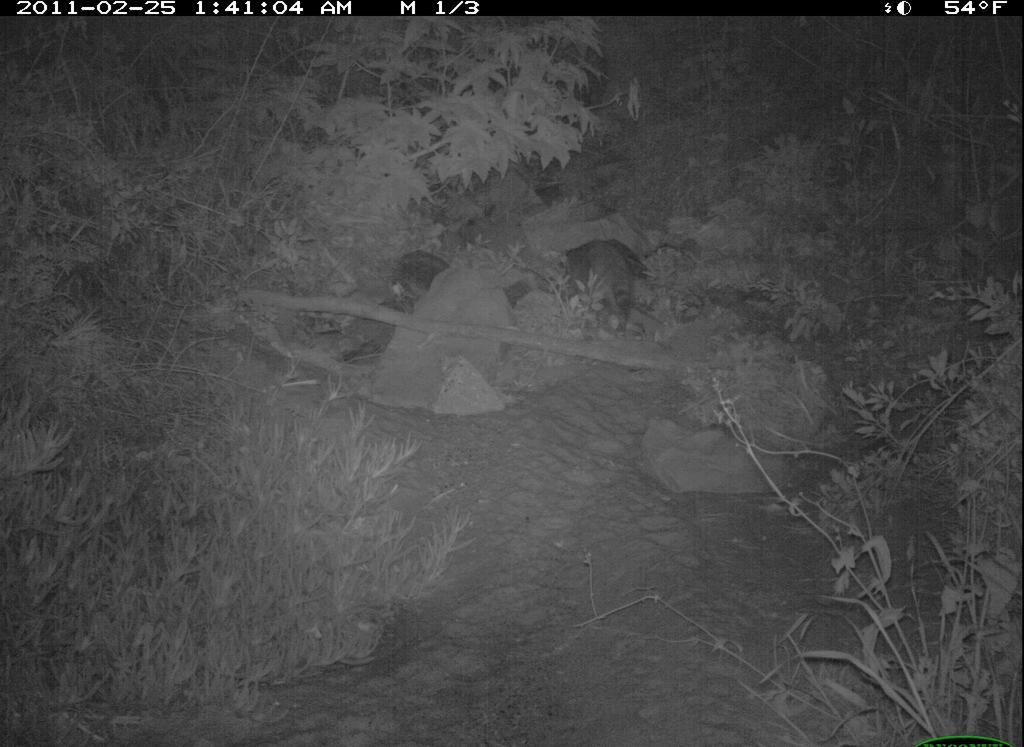raccoon: (561, 237, 648, 329)
